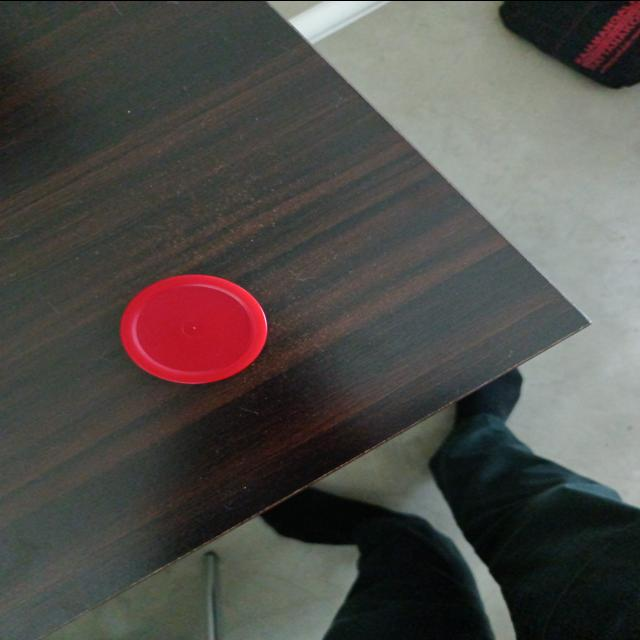chip: (118, 272, 272, 385)
